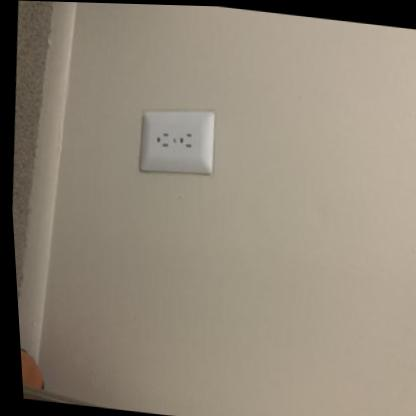OUTLET: (136, 106, 218, 177)
